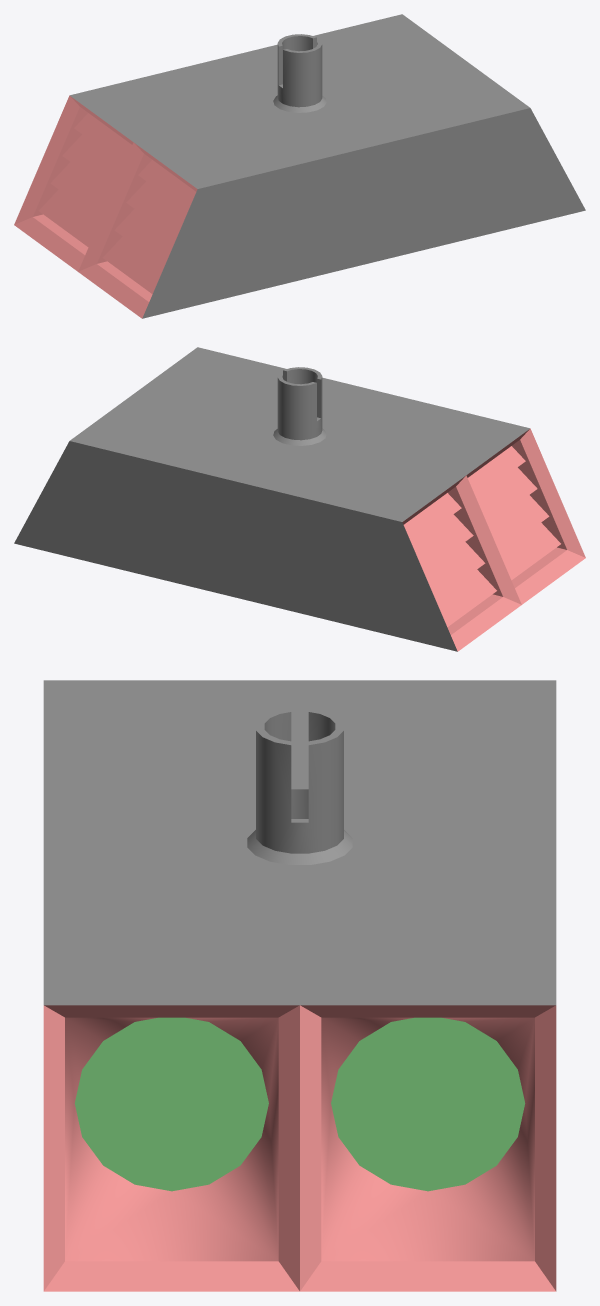
The model's file is SM_Turbine_8x4x2.gltf.
The picture shows the model from 3 angles, top to bottom: view 1: azimuth 30°, elevation 25°; view 2: azimuth 150°, elevation 25°; view 3: azimuth 270°, elevation 25°; orthographic projection. The views are drawn at different scales.
Visible parts, largest first — view 1: SM_Turbine_8x4x2; view 2: SM_Turbine_8x4x2; view 3: SM_Turbine_8x4x2.
Part boxes in pixels (x1=…): SM_Turbine_8x4x2: x1=14, y1=14, x2=585, y2=318; SM_Turbine_8x4x2: x1=14, y1=347, x2=585, y2=651; SM_Turbine_8x4x2: x1=43, y1=680, x2=556, y2=1291.
Bounding box in the file's own units: 2.4 × 0.9 × 1.2.
